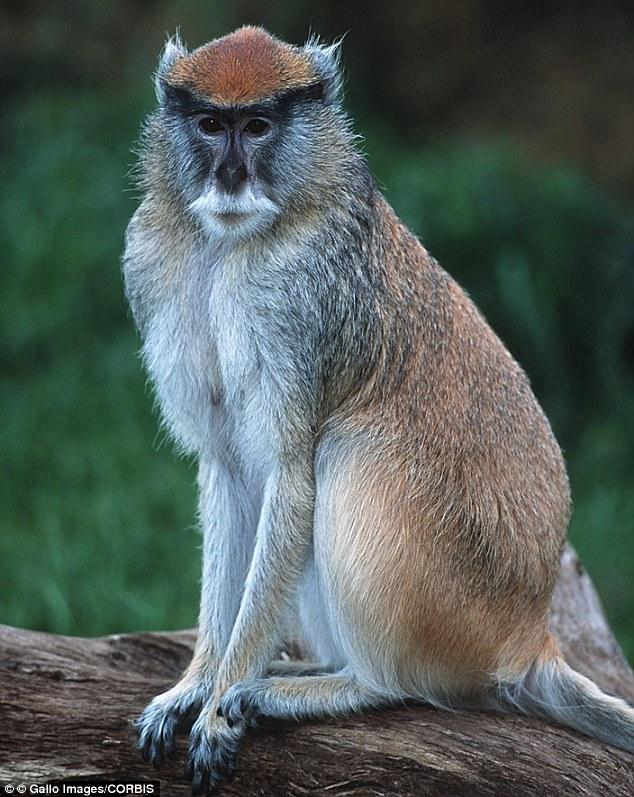monkey: (120, 25, 634, 797)
